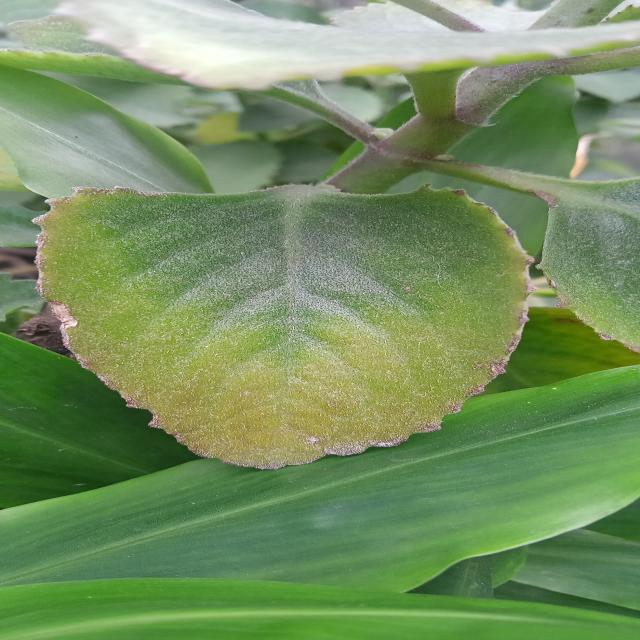Oregano: (28, 129, 596, 511)
